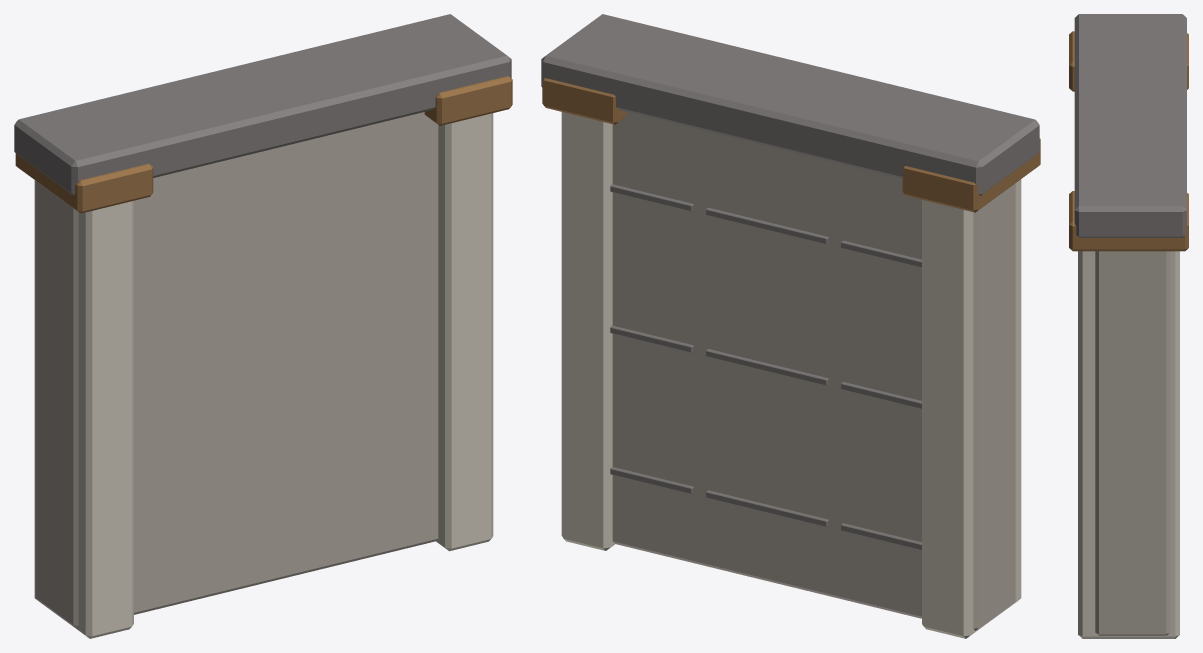
Rendered from wall_block.glb.
The picture shows the model from 3 angles, left to right: view 1: azimuth 30°, elevation 25°; view 2: azimuth 150°, elevation 25°; view 3: azimuth 270°, elevation 25°; orthographic projection. The views are drawn at different scales.
Parts seen in each view (by area): view 1: WALL__ashlar, WALL__cornice, WALL__pilaster, WALL__pilaster.001, WALL__capital, WALL__capital.001; view 2: WALL__ashlar, WALL__cornice, WALL__pilaster, WALL__pilaster.001, WALL__capital, WALL__capital.001, WALL__stone_joint.004, WALL__stone_joint.007, WALL__stone_joint.001, WALL__stone_joint.002, WALL__stone_joint.005, WALL__stone_joint.008 (+3 smaller); view 3: WALL__ashlar, WALL__cornice, WALL__pilaster.001, WALL__capital.001, WALL__capital.
Part boxes in pixels (x1,y1,x2,y2): WALL__ashlar: (36, 112, 438, 627); WALL__cornice: (14, 14, 511, 195); WALL__pilaster: (34, 180, 133, 638); WALL__pilaster.001: (436, 113, 493, 551); WALL__capital: (15, 153, 153, 213); WALL__capital.001: (424, 76, 512, 125); WALL__ashlar: (612, 112, 1015, 630); WALL__cornice: (541, 14, 1039, 195); WALL__pilaster: (922, 179, 1021, 638); WALL__pilaster.001: (561, 112, 614, 550); WALL__capital: (902, 138, 1040, 212); WALL__capital.001: (542, 78, 626, 124); WALL__stone_joint.004: (706, 349, 828, 385); WALL__stone_joint.007: (706, 207, 828, 244); WALL__stone_joint.001: (706, 490, 828, 526); WALL__stone_joint.002: (610, 467, 693, 493); WALL__stone_joint.005: (610, 325, 693, 352); WALL__stone_joint.008: (610, 184, 693, 211); WALL__ashlar: (1095, 251, 1169, 635); WALL__cornice: (1074, 14, 1186, 237); WALL__pilaster.001: (1078, 251, 1179, 638); WALL__capital.001: (1069, 191, 1188, 251); WALL__capital: (1069, 31, 1188, 91).
Size of the model in its own units: 2.55 by 2.67 by 0.66.
